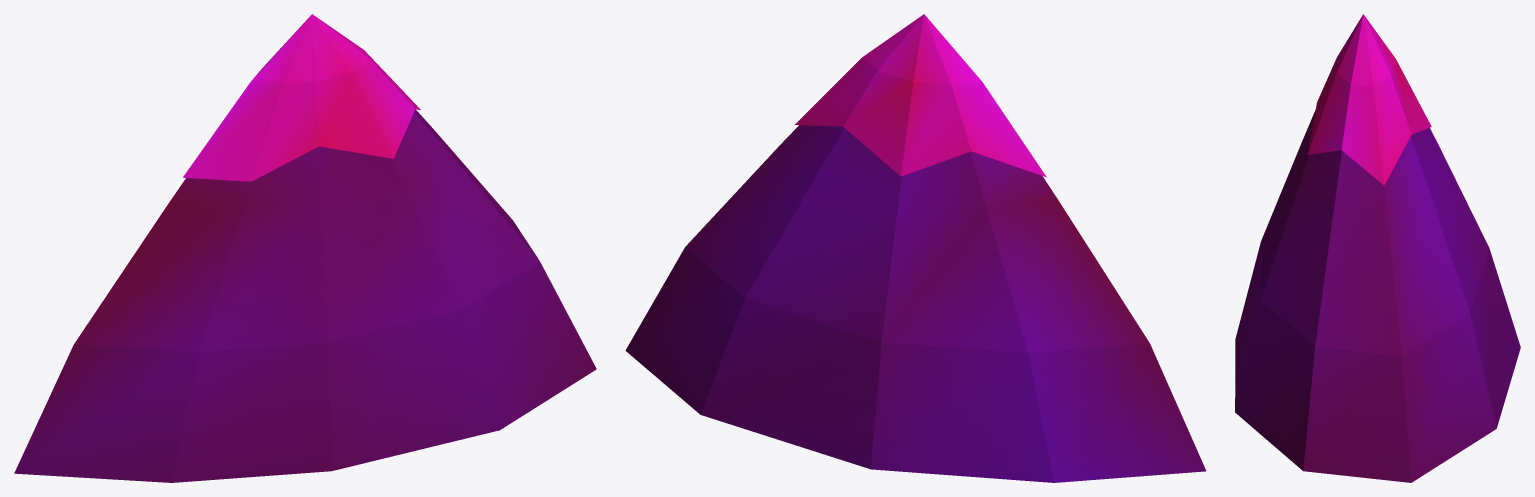
Rendered from Mountain_Back_01.glb.
The picture shows the model from 3 angles, left to right: view 1: azimuth 30°, elevation 25°; view 2: azimuth 150°, elevation 25°; view 3: azimuth 270°, elevation 25°; orthographic projection. The views are drawn at different scales.
Visible parts, largest first — view 1: Mountain_Back_01; view 2: Mountain_Back_01; view 3: Mountain_Back_01.
Part boxes in pixels (x1,y1,x2,y2): Mountain_Back_01: [14, 14, 596, 482]; Mountain_Back_01: [625, 14, 1206, 482]; Mountain_Back_01: [1235, 14, 1520, 482].
Bounding box in the file's own units: 49.21 × 32.25 × 23.98.
